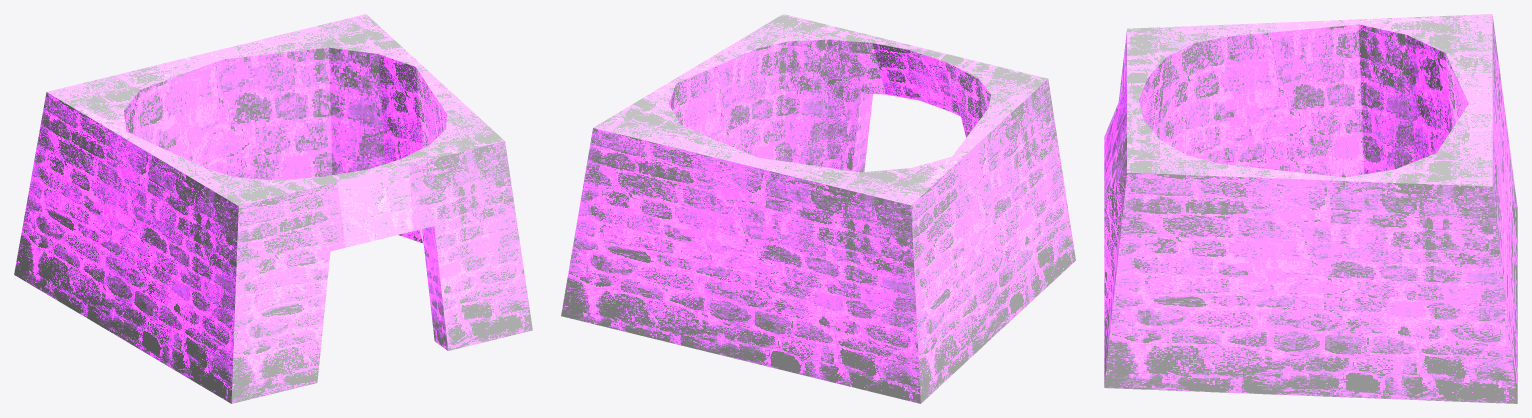
The model's file is castle_outpost_v1.glb.
3 renders of one model, left to right at view 1: azimuth 30°, elevation 25°; view 2: azimuth 150°, elevation 25°; view 3: azimuth 270°, elevation 25°, orthographic. The views are drawn at different scales.
Parts seen in each view (by area): view 1: castle_outpost1; view 2: castle_outpost1; view 3: castle_outpost1.
Part boxes in pixels (box(x1,y1,x2,y2)): castle_outpost1: box(14, 14, 532, 403); castle_outpost1: box(561, 14, 1075, 403); castle_outpost1: box(1104, 14, 1517, 403).
Bounding box in the file's own units: 9.43 × 4.64 × 8.44.
